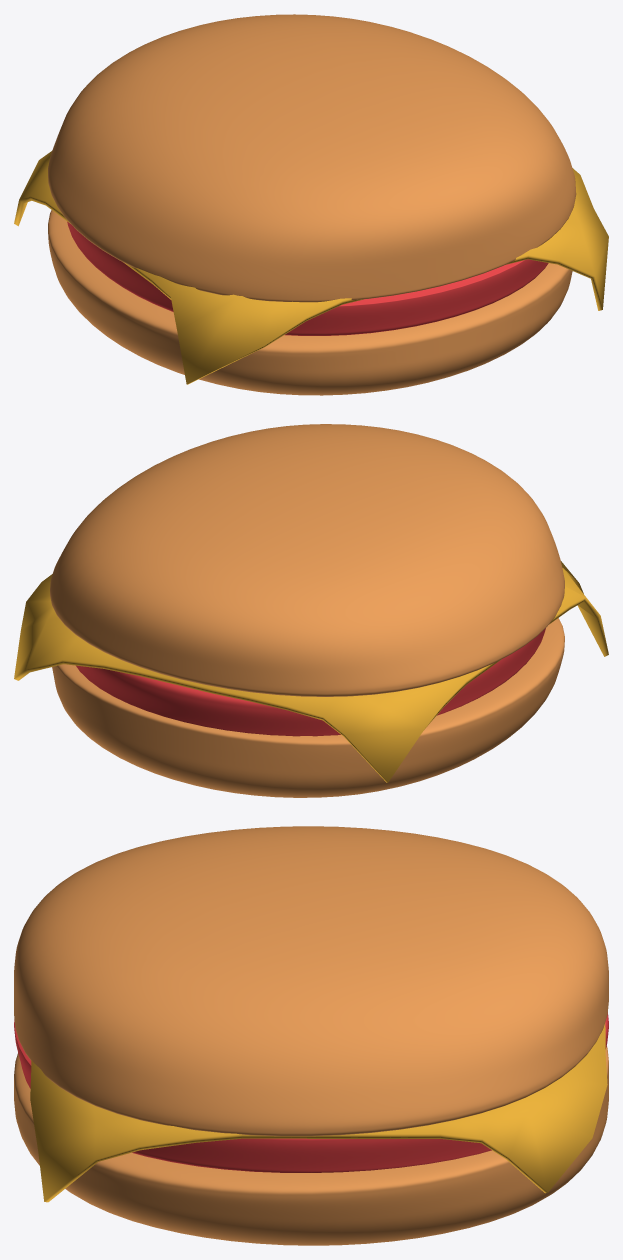
Rendered from hamburger.glb.
The picture shows the model from 3 angles, top to bottom: view 1: azimuth 30°, elevation 25°; view 2: azimuth 150°, elevation 25°; view 3: azimuth 270°, elevation 25°; orthographic projection. The views are drawn at different scales.
Parts seen in each view (by area): view 1: Cube.002, Cube, Plane, Cube.001; view 2: Cube.002, Cube, Plane, Cube.001; view 3: Cube.002, Cube, Plane, Cube.001.
Boxes of the visible parts, x1,y1,x2,y2 form: Cube.002: (48,14,576,302); Cube: (48,210,572,395); Plane: (14,151,608,384); Cube.001: (67,221,548,335); Cube.002: (50,424,564,696); Cube: (52,618,564,797); Plane: (14,561,608,782); Cube.001: (76,628,545,736); Cube.002: (14,826,608,1136); Cube: (14,1046,608,1245); Plane: (30,1023,607,1202); Cube.001: (14,1012,608,1172).
Size of the model in its own units: 8.8 by 4.59 by 8.8.
